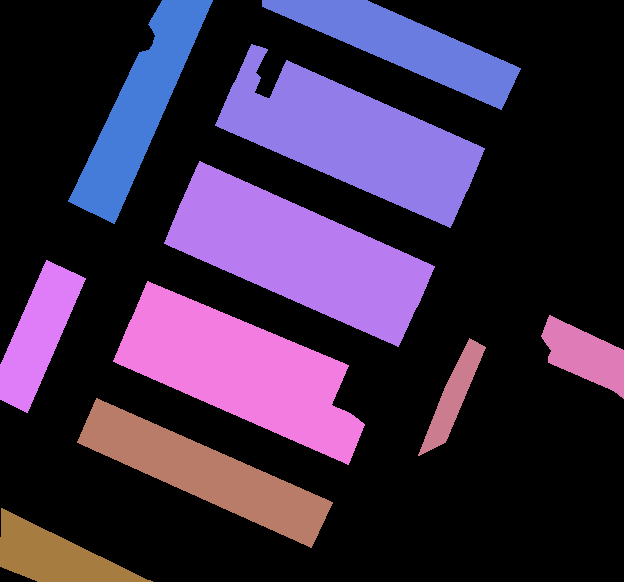parkingspot: (77, 398, 332, 547), (180, 161, 434, 306), (164, 201, 417, 346), (215, 83, 468, 227), (113, 320, 364, 464), (68, 0, 212, 223), (262, 0, 520, 109), (268, 60, 484, 190), (130, 281, 348, 409), (0, 260, 85, 412), (0, 508, 152, 581), (418, 338, 485, 455), (541, 315, 624, 398), (233, 44, 267, 94)
